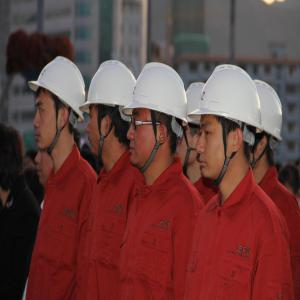none: (2, 124, 25, 198)
white: (197, 63, 258, 181), (126, 60, 187, 169), (32, 56, 87, 154), (84, 61, 135, 158), (251, 79, 283, 174), (181, 82, 207, 165)
